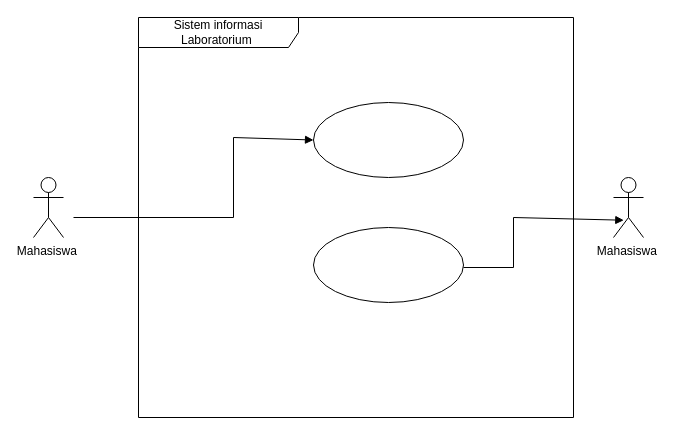
This 677x435 diagram has some shape labels left out. Here are the shapes that lost their labels. From the top down, the centre of each, then its label:
At point 388,140: "Lihat jadwal kuliah".
At point 388,264: "kelola jadwal kuliah".
